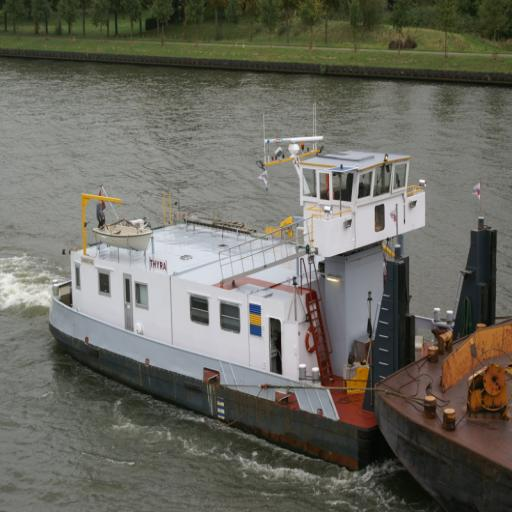tugboat: (46, 100, 503, 482)
